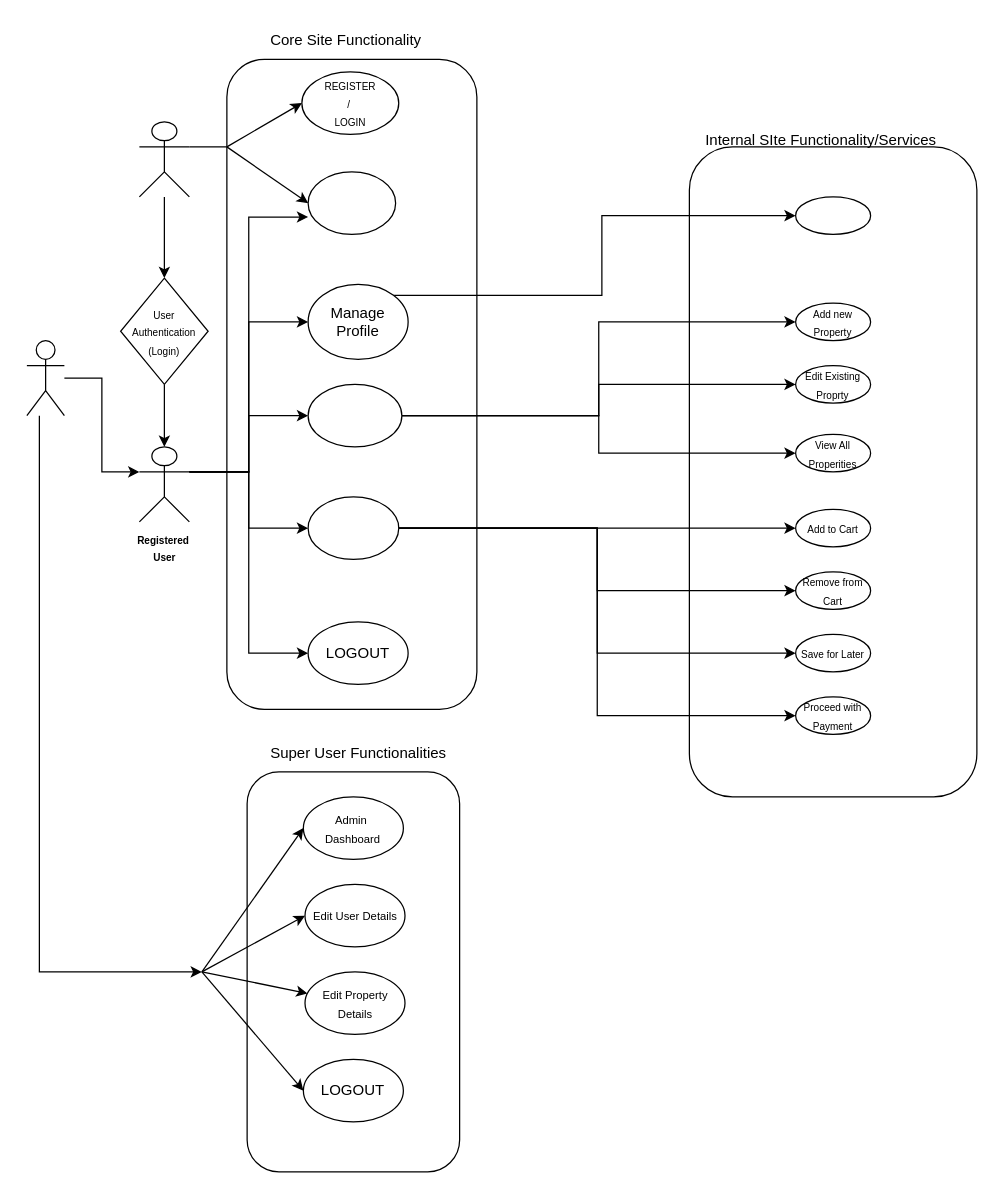
The diagram is 999 pixels wide and 1194 high, and some of its shapes have lost their labels. The centre of each missing label's shape, as x and y in pixels:
Cart Functionality: (353,527)
Edit Personal Details: (832,215)
Guest User: (163,159)
Manage Property: (354,415)
Searchng and Browsing Properties: (351,202)
SuperUser: (45,377)
